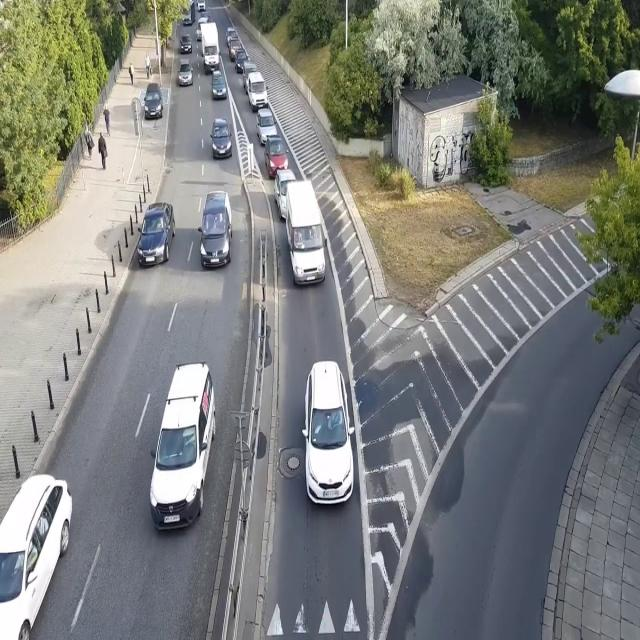car: (0, 474, 72, 640), (302, 360, 355, 507), (137, 202, 175, 268), (273, 168, 297, 222), (264, 136, 289, 179), (210, 118, 232, 158), (256, 108, 277, 146), (144, 83, 163, 120), (210, 71, 227, 100), (177, 59, 194, 87), (234, 49, 248, 74), (228, 38, 242, 62), (180, 34, 192, 54), (226, 27, 236, 46), (200, 11, 210, 21)
truck: (200, 23, 221, 75)
van: (148, 360, 216, 534), (285, 179, 327, 286), (197, 190, 233, 268), (248, 72, 268, 112), (243, 60, 258, 94), (182, 1, 195, 26), (196, 18, 209, 42), (197, 0, 206, 12)
